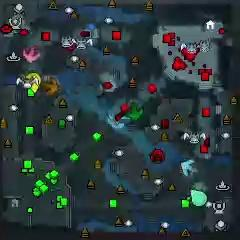p2: (190, 188, 208, 206)
p4: (25, 71, 42, 94)
x1: (22, 47, 41, 63)
x3: (181, 159, 196, 176)
x4: (126, 103, 144, 122)
x5: (40, 77, 60, 96)
